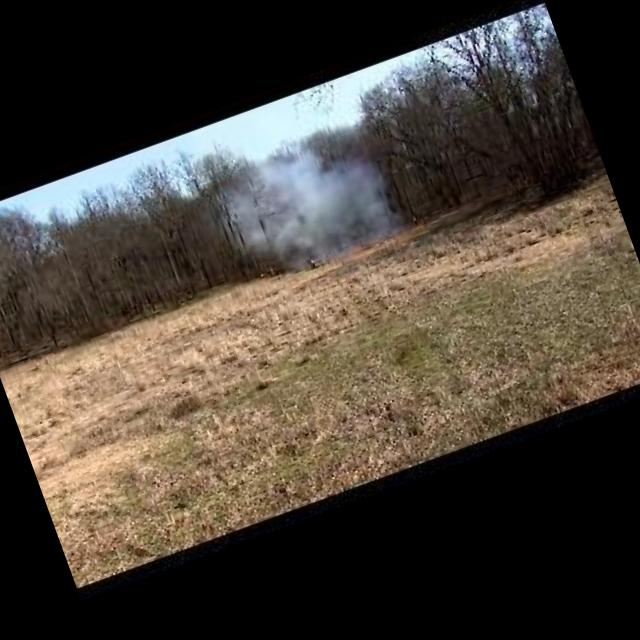fire: (409, 223, 424, 232), (353, 247, 359, 254)
smoke: (212, 120, 403, 294)
